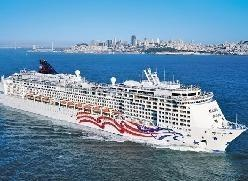youlun: (1, 59, 245, 154)
